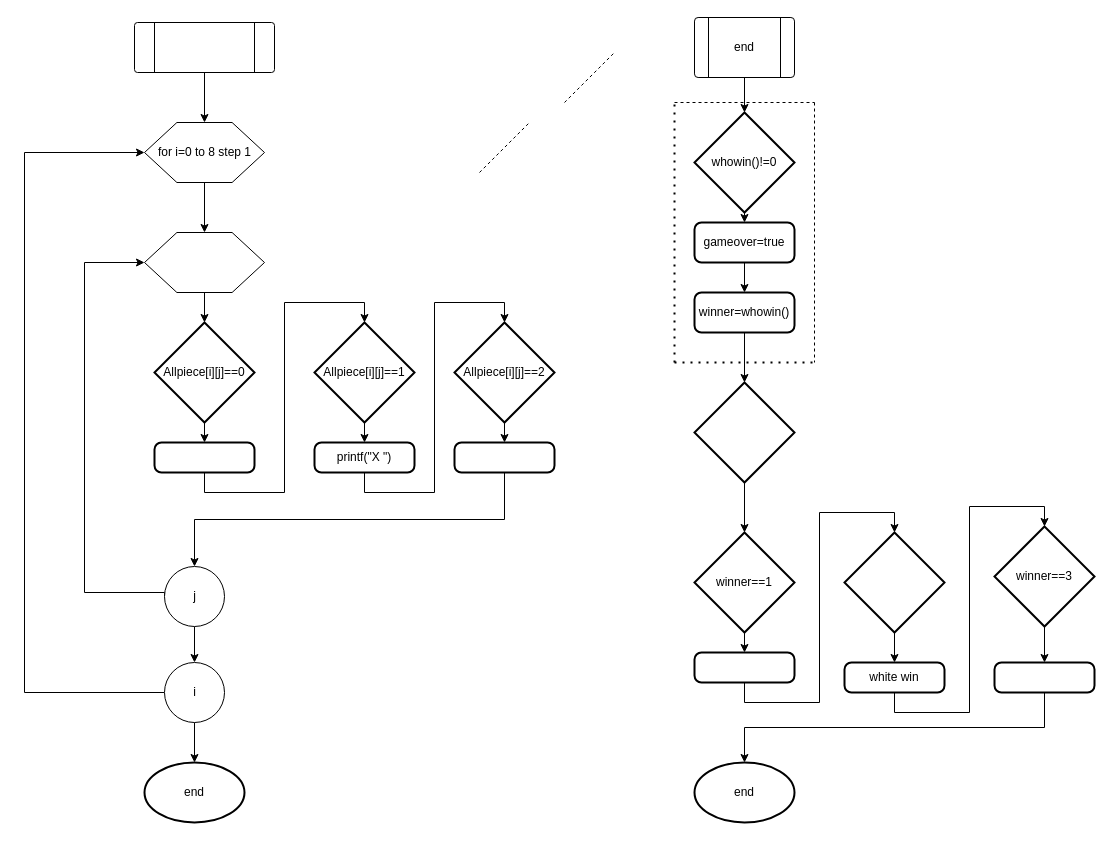
This 1113x841 diagram has some shape labels left out. Here are the shapes that lost their labels. From the top down, the centre of each, then its label:
the point at 204,47: DrawThePieces
the point at 204,262: for j=0 to 8 step 1
the point at 744,432: gameover==true
the point at 204,457: printf("_ ")
the point at 504,457: printf("O ")
the point at 894,582: winner==2
the point at 744,667: black win
the point at 1044,677: no one win
